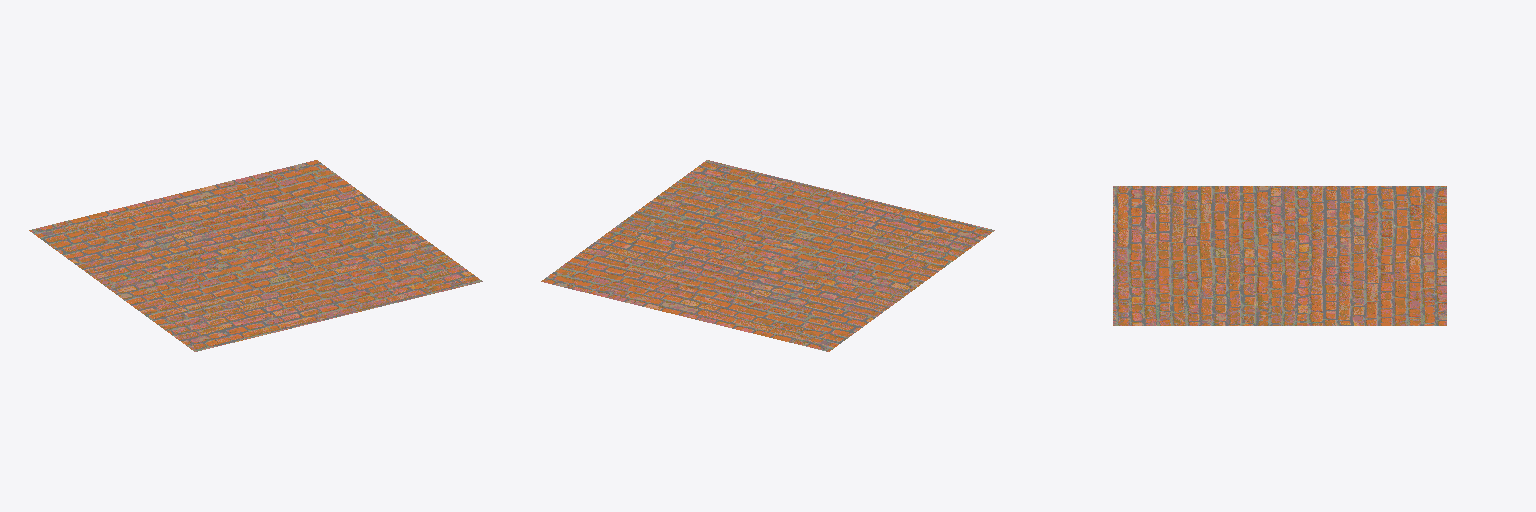
3 views of the same model, side by side, from view 1: azimuth 30°, elevation 25°; view 2: azimuth 150°, elevation 25°; view 3: azimuth 270°, elevation 25° (orthographic).
Parts seen in each view (by area): view 1: Plane; view 2: Plane; view 3: Plane.
Part boxes in pixels (x1,y1,x2,y2): Plane: (29,160,482,351); Plane: (541,160,994,351); Plane: (1113,186,1446,325).
Bounding box in the file's own units: 12.37 × 0 × 12.37.
Materials: 1 (1 with a texture image).